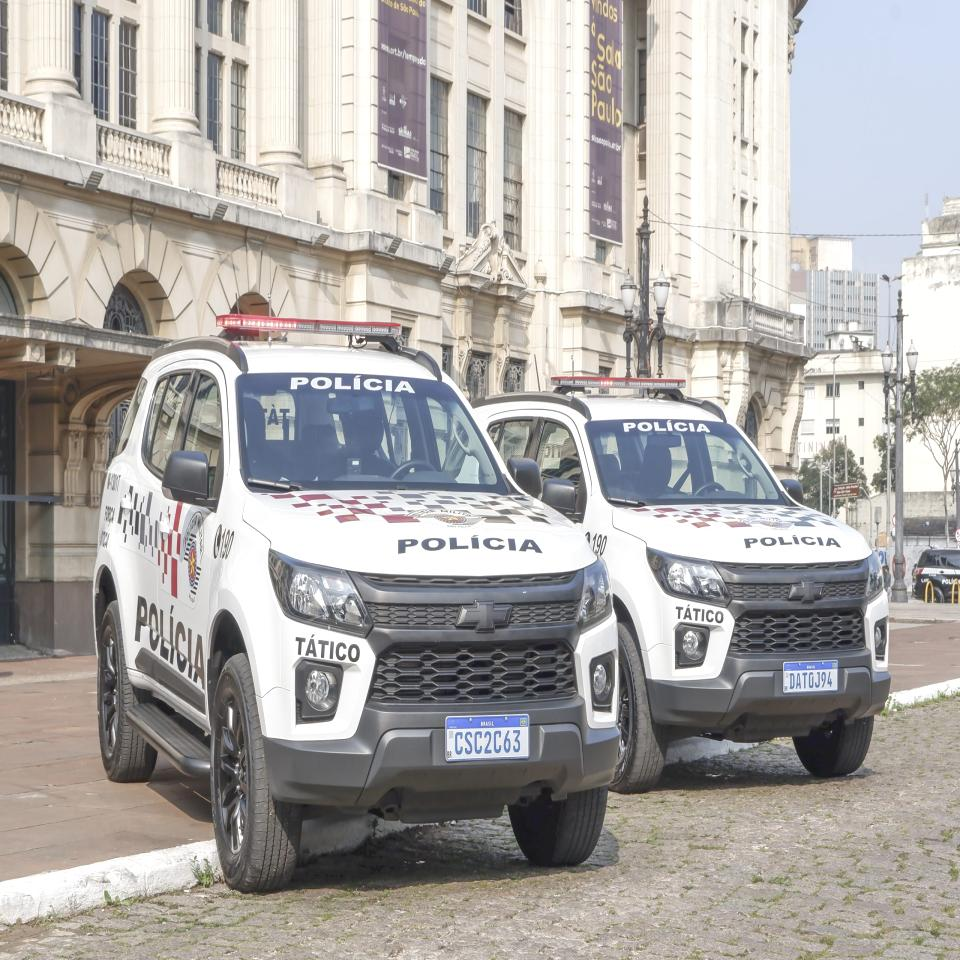viatura: (86, 308, 634, 891), (470, 368, 896, 792)
